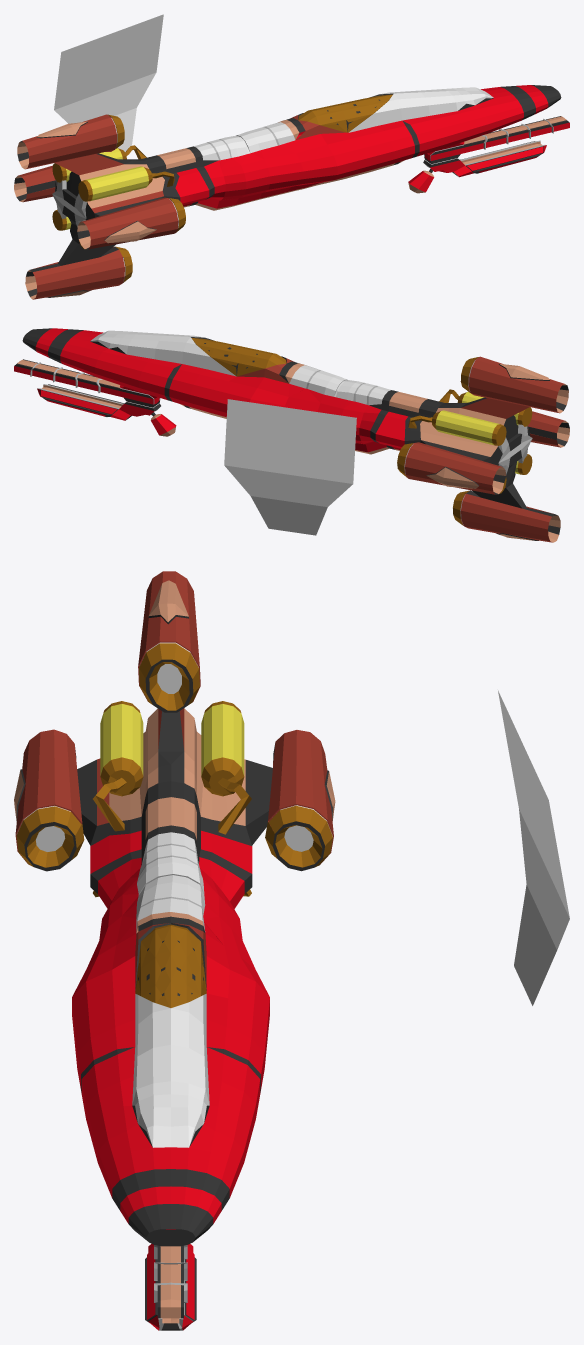
Rendered from BWS.fbx.
The picture shows the model from 3 angles, top to bottom: view 1: azimuth 30°, elevation 25°; view 2: azimuth 150°, elevation 25°; view 3: azimuth 270°, elevation 25°; orthographic projection. The views are drawn at different scales.
Visible parts, largest first — view 1: BWS, BWSSHIELD; view 2: BWS, BWSSHIELD; view 3: BWS, BWSSHIELD.
Boxes of the visible parts, <box> form: BWS: <box>14,85,569,299</box>; BWSSHIELD: <box>54,14,163,151</box>; BWS: <box>14,328,569,542</box>; BWSSHIELD: <box>224,399,356,535</box>; BWS: <box>14,571,335,1330</box>; BWSSHIELD: <box>498,690,569,1005</box>.
Size of the model in its own units: 481 by 144 by 218.
